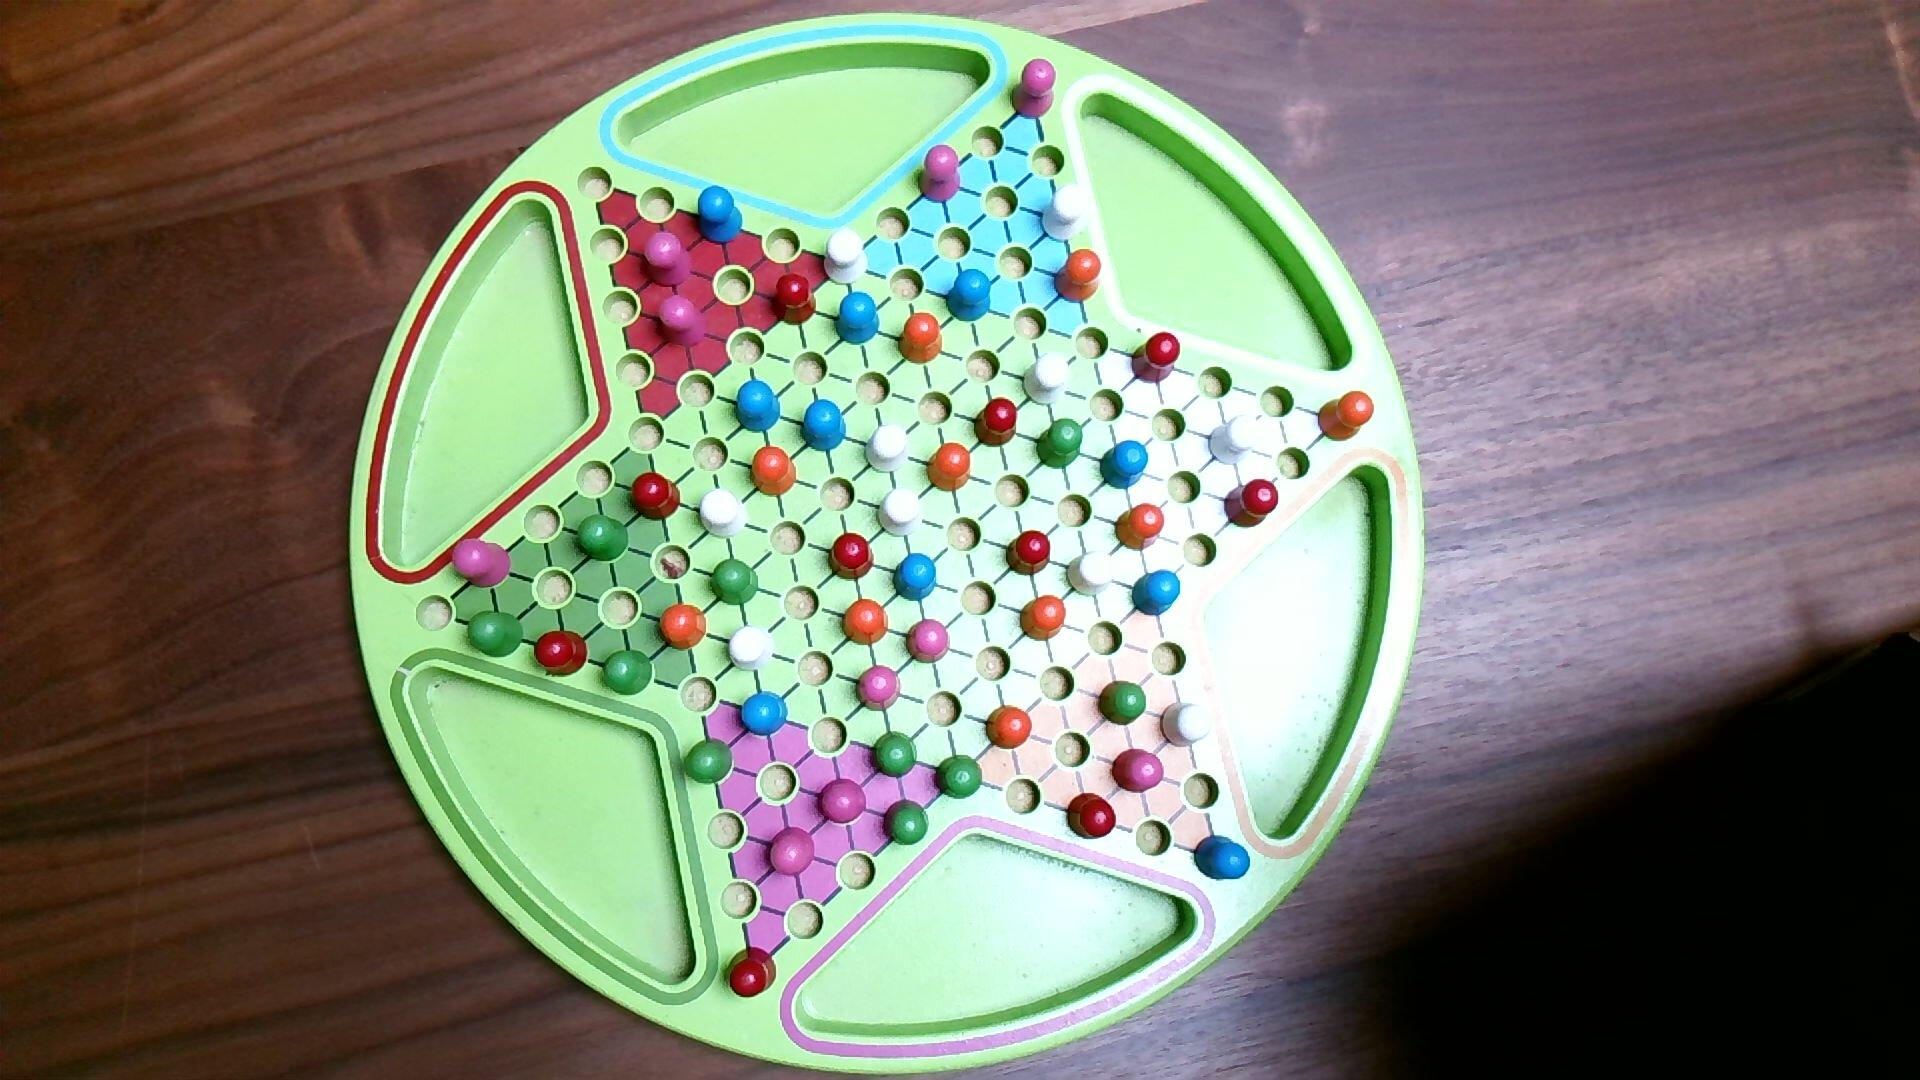B: (695, 183, 745, 247), (1191, 833, 1253, 884), (733, 377, 783, 435), (799, 398, 849, 455), (944, 266, 993, 324), (833, 289, 881, 347), (1098, 439, 1150, 492), (1130, 568, 1183, 618), (891, 551, 940, 605), (738, 688, 790, 738)
G: (465, 608, 526, 662), (574, 513, 632, 566), (680, 736, 737, 787), (708, 556, 761, 609), (601, 647, 655, 699), (1036, 415, 1085, 472), (881, 796, 932, 849), (869, 729, 920, 782), (1096, 679, 1150, 729), (934, 753, 986, 803)
O: (1316, 388, 1375, 444), (1052, 247, 1104, 307), (1114, 502, 1168, 556), (750, 443, 800, 498), (657, 601, 709, 653), (841, 596, 891, 650), (897, 311, 945, 367), (1017, 593, 1069, 644), (924, 440, 973, 495), (984, 703, 1035, 753)
R: (723, 943, 781, 1001), (1222, 476, 1280, 531), (1130, 328, 1183, 386), (767, 269, 819, 328), (629, 469, 684, 524), (533, 628, 589, 680), (1065, 790, 1120, 843), (825, 530, 877, 585), (1004, 527, 1054, 579), (972, 396, 1021, 448)
R2: (450, 535, 514, 592), (640, 227, 695, 290), (1009, 55, 1059, 123), (654, 291, 709, 351), (914, 141, 963, 206), (765, 824, 818, 880), (1109, 746, 1167, 796), (816, 775, 870, 827), (855, 663, 905, 713), (905, 617, 953, 666)
W: (1207, 411, 1265, 468), (1021, 349, 1073, 409), (822, 225, 872, 287), (1040, 183, 1091, 245), (1158, 699, 1215, 752), (698, 487, 750, 542), (1065, 549, 1121, 600), (727, 622, 778, 676), (862, 422, 913, 476), (877, 485, 926, 539)
